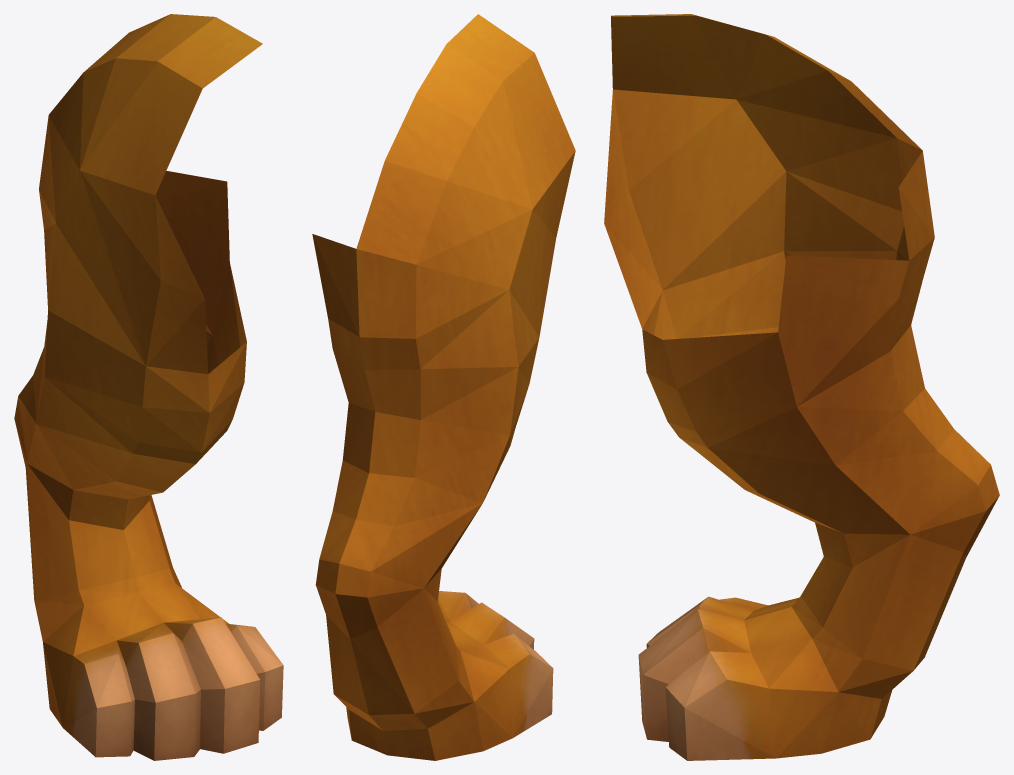
The model's file is traDerLeon.obj.
3 views of the same model, side by side, from view 1: azimuth 30°, elevation 25°; view 2: azimuth 150°, elevation 25°; view 3: azimuth 270°, elevation 25° (orthographic). The views are drawn at different scales.
Visible parts, largest first — view 1: polySurface40; view 2: polySurface40; view 3: polySurface40.
Boxes of the visible parts, bbox=[...] form: polySurface40: bbox=[14, 14, 283, 760]; polySurface40: bbox=[312, 14, 575, 760]; polySurface40: bbox=[604, 14, 999, 760].
Size of the model in its own units: 0.2087 by 0.7664 by 0.3834.
1 material, 1 textured.
